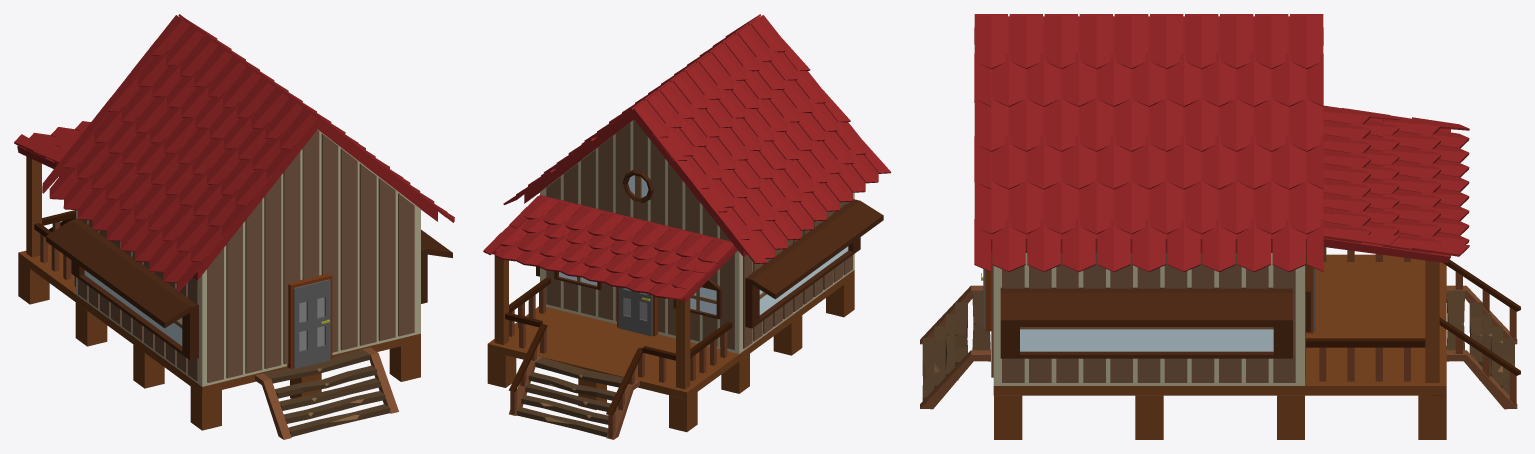
Rendered from House_02_Merged.fbx.
3 views of the same model, side by side, from view 1: azimuth 30°, elevation 25°; view 2: azimuth 150°, elevation 25°; view 3: azimuth 270°, elevation 25° (orthographic). The views are drawn at different scales.
Visible parts, largest first — view 1: House_02_Merged; view 2: House_02_Merged; view 3: House_02_Merged.
Boxes of the visible parts, left/top/right/bottom form: House_02_Merged: left=14, top=14, right=454, bottom=439; House_02_Merged: left=483, top=14, right=891, bottom=439; House_02_Merged: left=920, top=14, right=1520, bottom=439.
Bounding box in the file's own units: 579 × 561 × 849.
